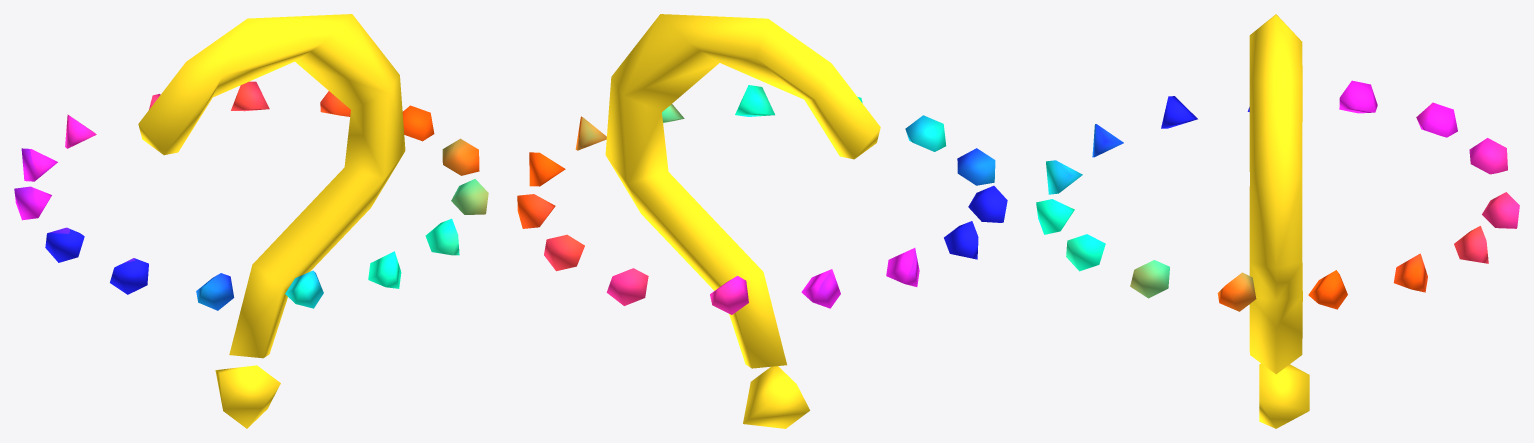
File: hint.glb
The picture shows the model from 3 angles, left to right: view 1: azimuth 30°, elevation 25°; view 2: azimuth 150°, elevation 25°; view 3: azimuth 270°, elevation 25°; orthographic projection. The views are drawn at different scales.
Parts seen in each view (by area): view 1: question, dots; view 2: question, dots; view 3: question, dots.
Part boxes in pixels (x1,y1,x2,y2): question: [138, 14, 405, 428]; dots: [14, 81, 488, 310]; question: [605, 14, 880, 428]; dots: [517, 85, 1007, 314]; question: [1249, 14, 1309, 428]; dots: [1036, 80, 1519, 311].
Size of the model in its own units: 0.882 by 0.827 by 0.884.
1 material, 1 textured.
